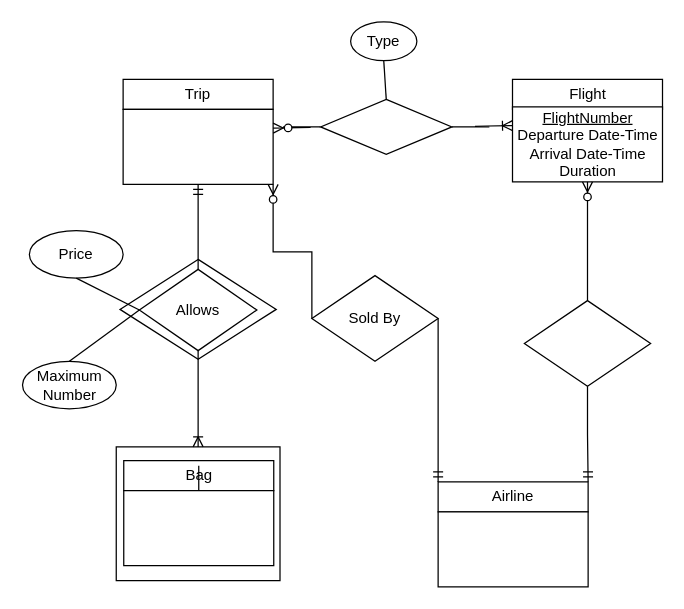
Image size: 684x609. Some labels were removed from this diagram. Here are the shapes that lost their labels. From the top down, the centre of each, then its label:
[197,146]: Number Class Price
[385,126]: Has
[587,342]: Operates
[198,527]: NumType MaximumWeight
[512,549]: Name Rating
